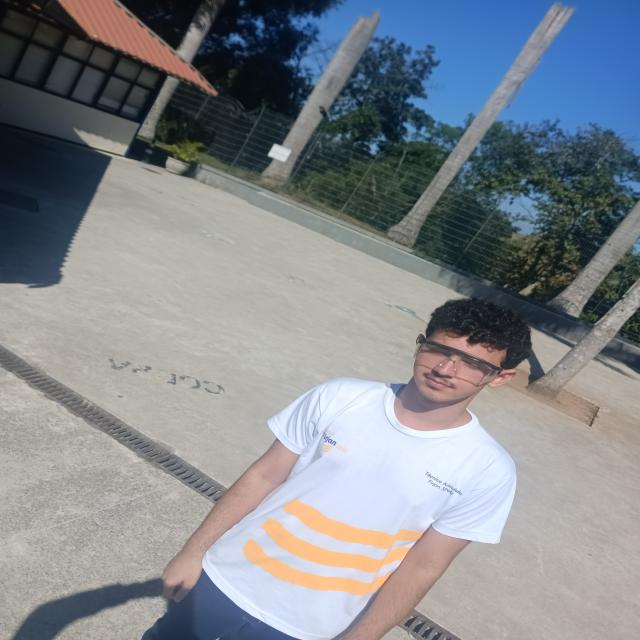oculos-epi: (414, 338, 503, 384)
